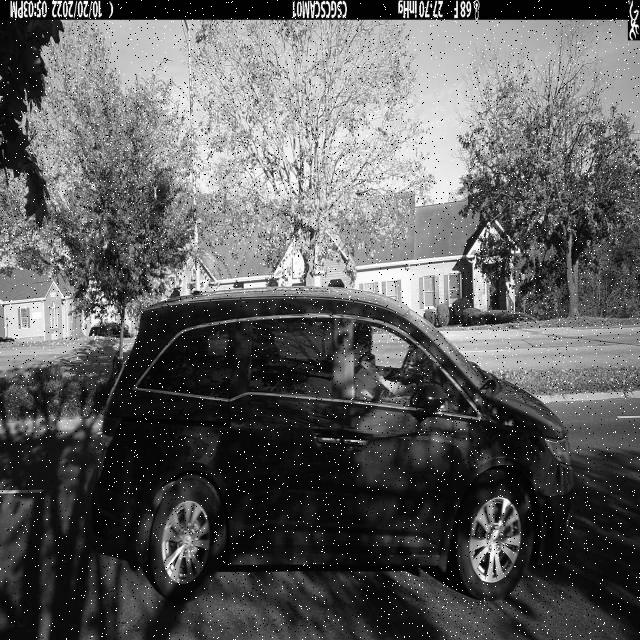Van: (85, 288, 576, 604)
